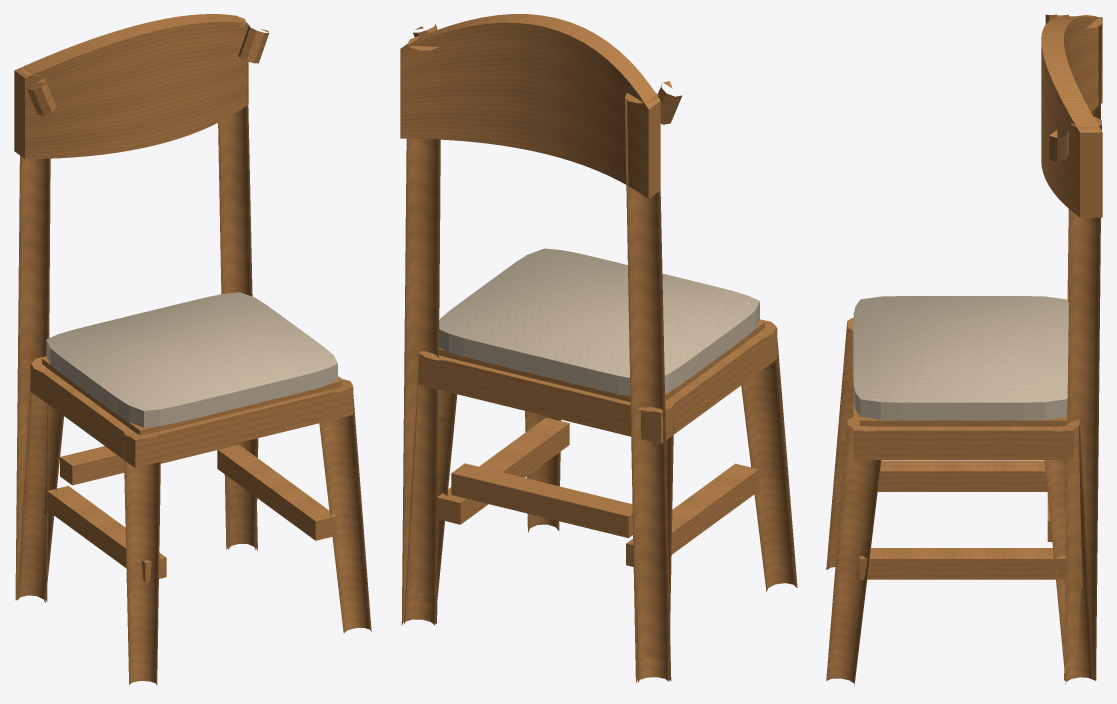
Rendered from dining-chair-v2.glb.
3 views of the same model, side by side, from view 1: azimuth 30°, elevation 25°; view 2: azimuth 150°, elevation 25°; view 3: azimuth 270°, elevation 25° (orthographic). The views are drawn at different scales.
Visible parts, largest first — view 1: room03-dining-chair; view 2: room03-dining-chair; view 3: room03-dining-chair.
Boxes of the visible parts, left/top/right/bottom form: room03-dining-chair: left=14, top=14, right=371, bottom=685; room03-dining-chair: left=400, top=14, right=797, bottom=682; room03-dining-chair: left=826, top=14, right=1102, bottom=686.
Size of the model in its own units: 0.4534 by 1.01 by 0.4268.
Materials: 2 (2 with a texture image).
